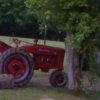Tractor: (4, 23, 69, 86)
